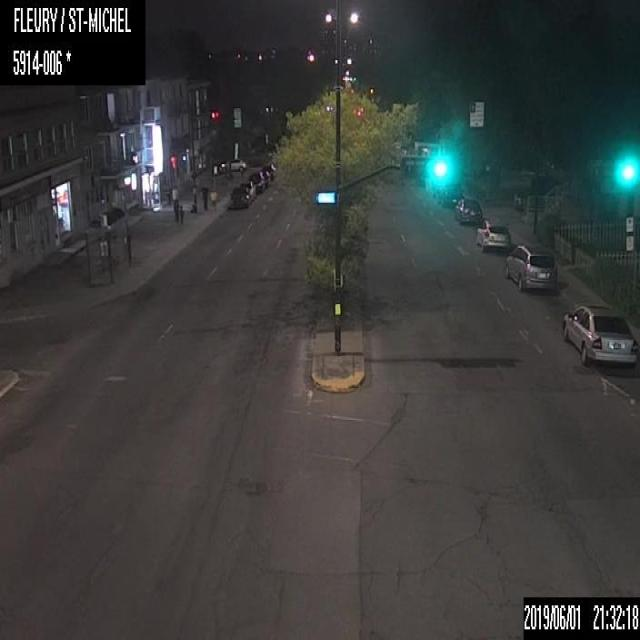pedestrian: (198, 182, 210, 214), (171, 194, 179, 224), (178, 200, 185, 224)
vehicle: (560, 299, 639, 365), (506, 240, 559, 292), (473, 214, 512, 256), (452, 193, 484, 229), (434, 184, 464, 207), (227, 186, 247, 211), (238, 178, 256, 202), (249, 170, 265, 192), (220, 158, 246, 170), (262, 163, 274, 181), (259, 170, 270, 188)
